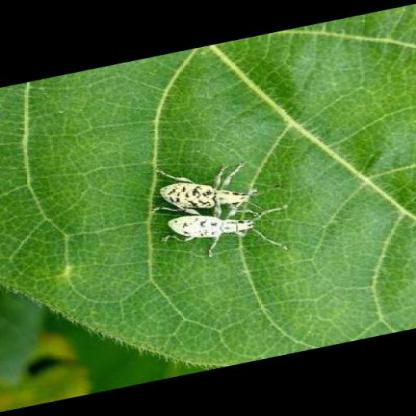ash weevil: (166, 207, 284, 254), (162, 182, 254, 209)
